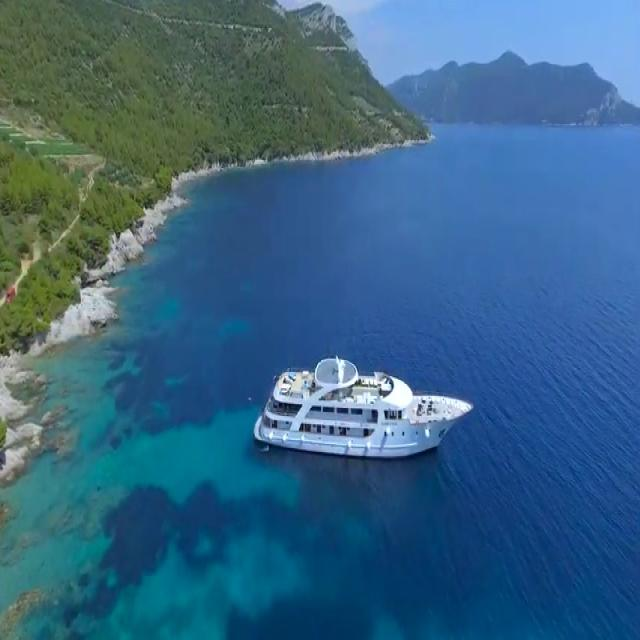passenger ship: (248, 350, 473, 463)
